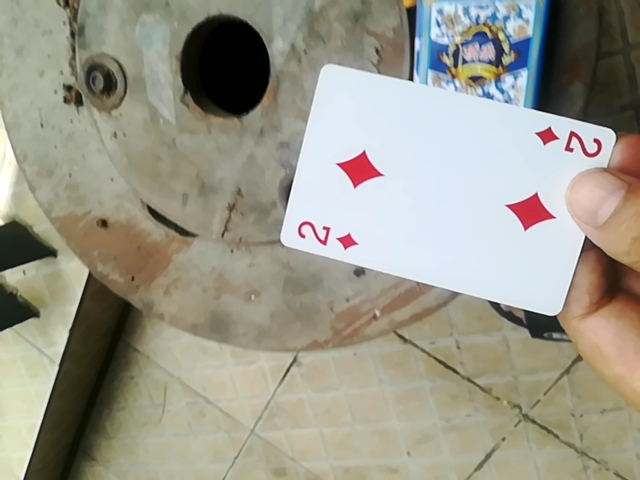fk 2: (275, 62, 621, 315)
